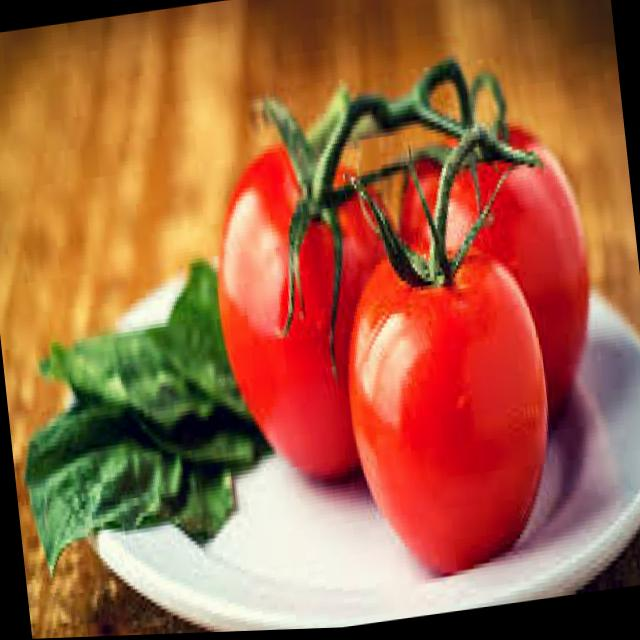tomato: (339, 242, 562, 591), (208, 135, 416, 497), (394, 134, 598, 449)
